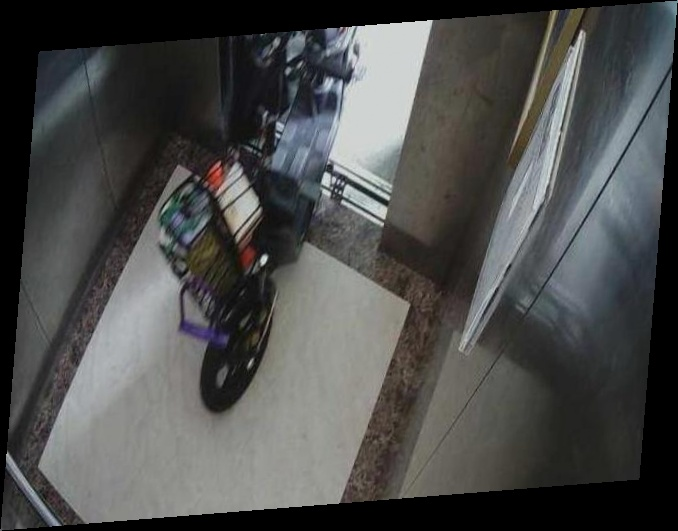electromobile: (148, 39, 381, 439)
